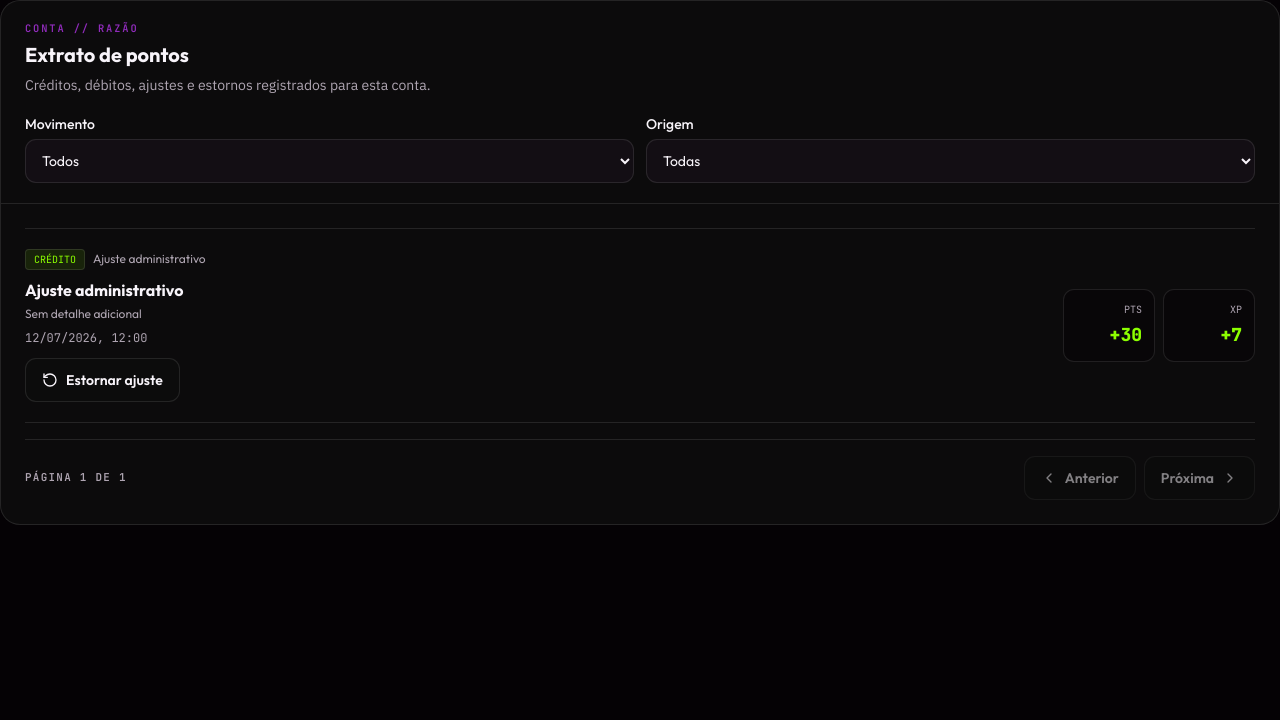
it: participant point-event reversal flow › handles reversal replay=true and invalidates ranking for XP
Click the button "Estornar ajuste" at (102, 380), box left=25, top=358, right=180, bottom=402
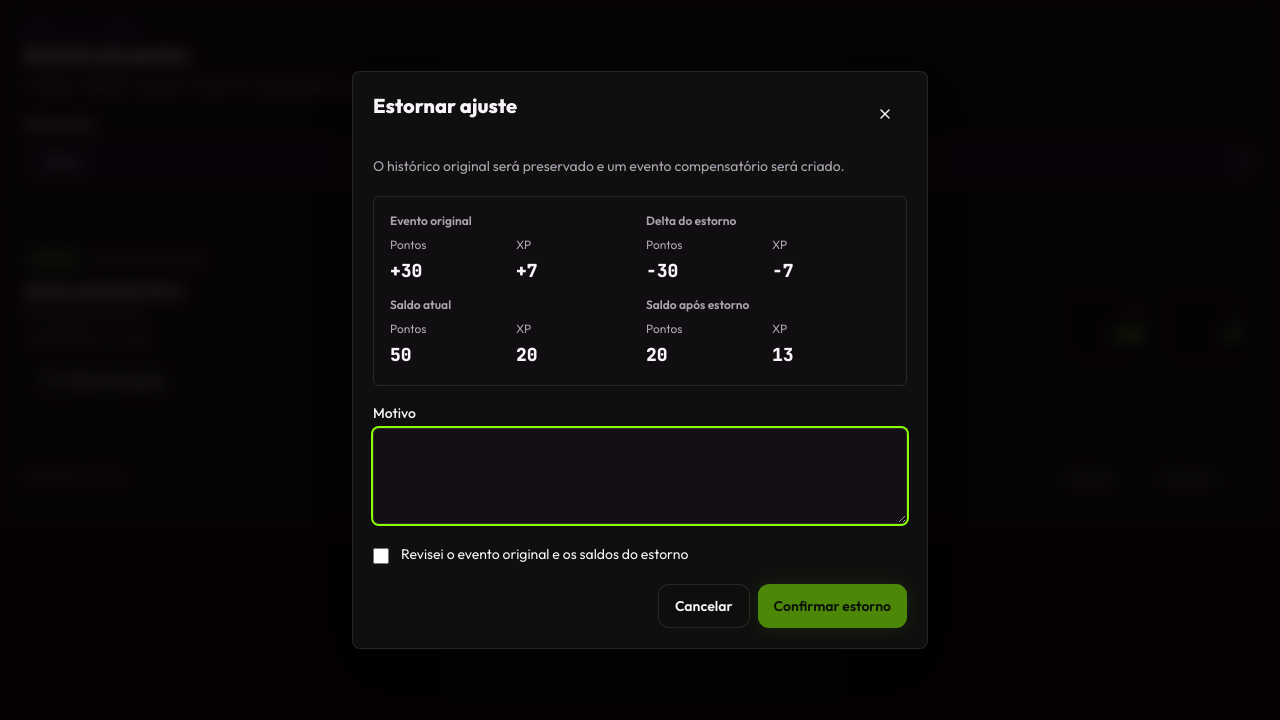
Expected: the text "Saldo após estorno" is shown, left=646, top=297, right=749, bottom=312
Type "Estorno operacional" into the text box labelled "Motivo" at (640, 476), box left=373, top=428, right=907, bottom=524
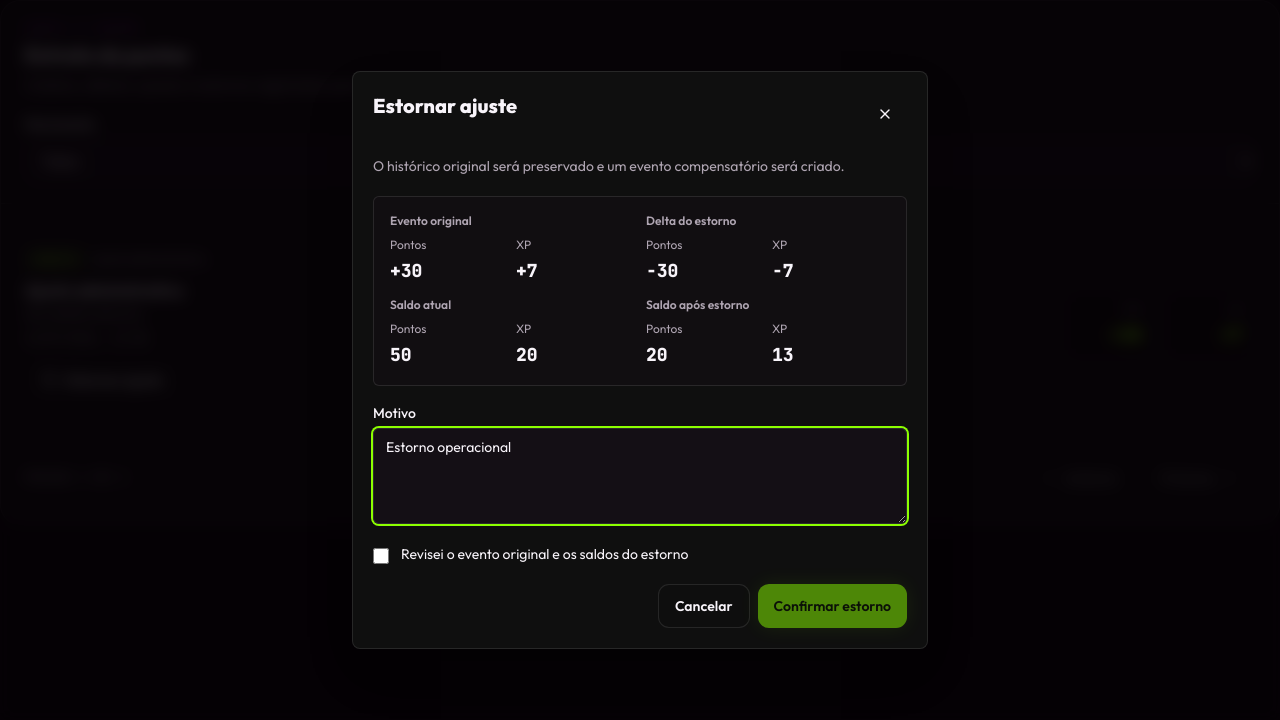
Click the checkbox labelled "Revisei o evento original e os saldos do estorno" at (381, 556), box left=373, top=548, right=389, bottom=564
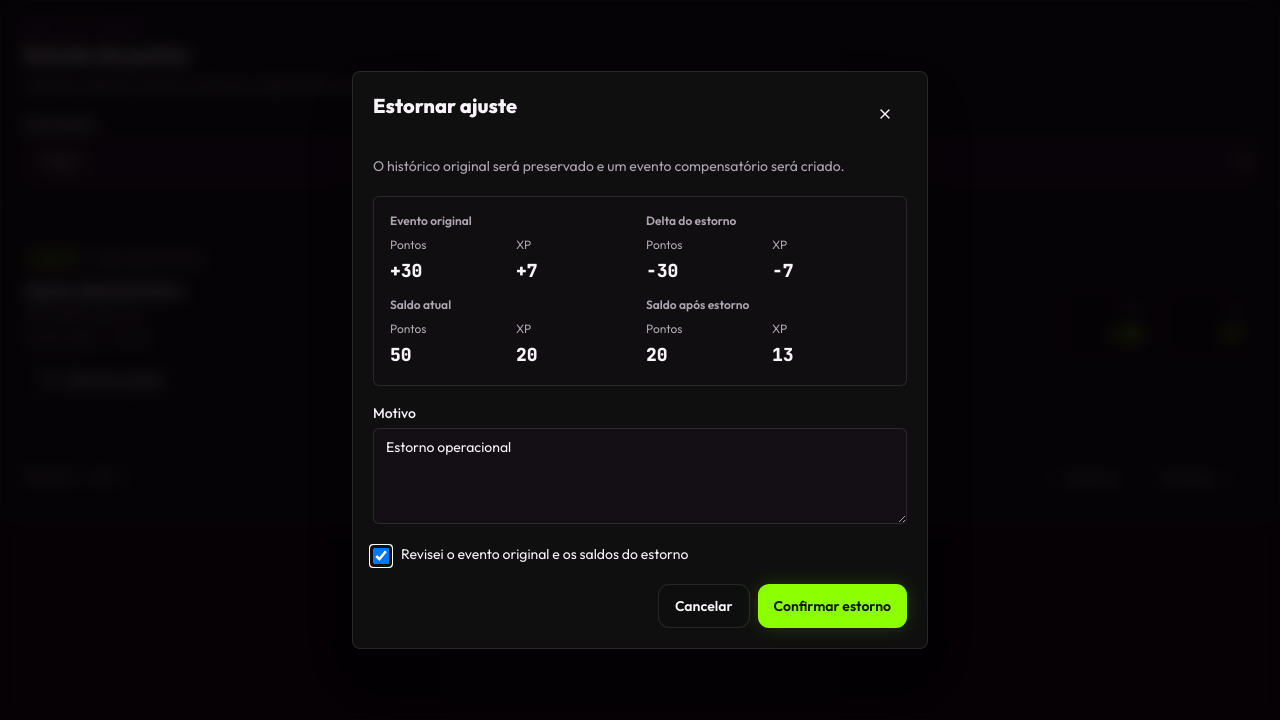
Click the button "Confirmar estorno" at (832, 606), box left=758, top=584, right=907, bottom=628
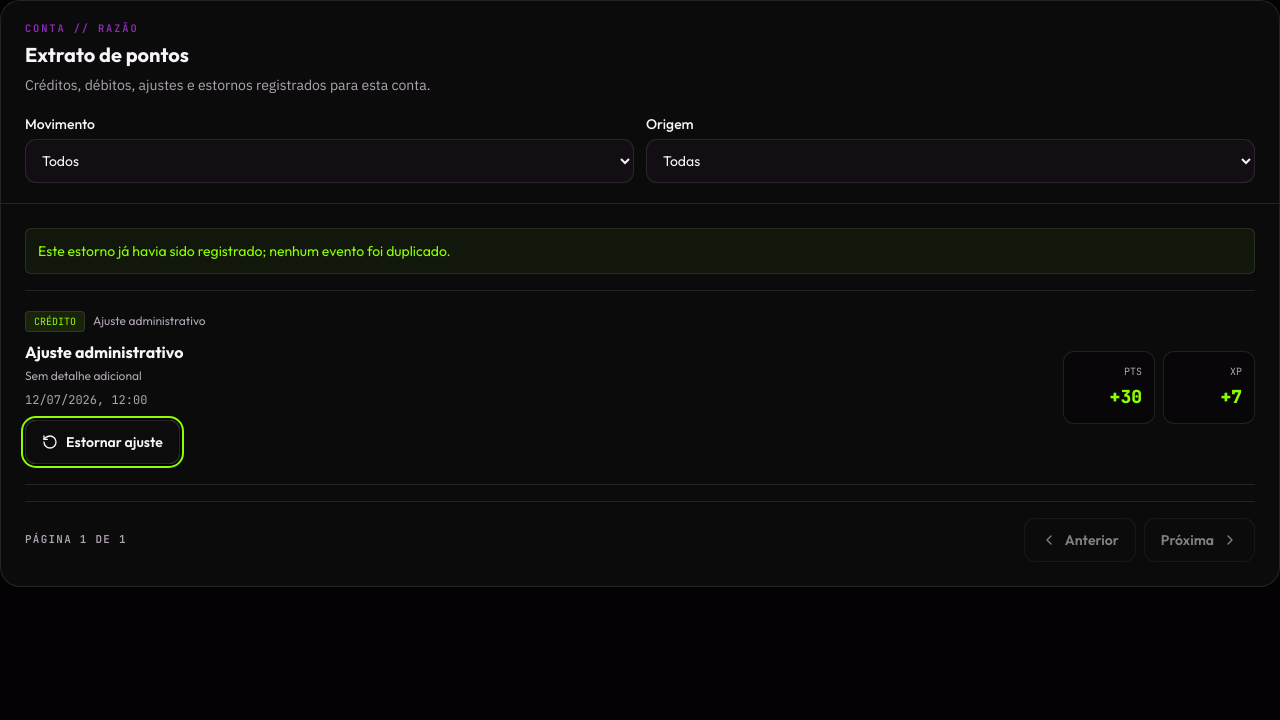
Expected: the message reads "Este estorno já havia sido registrado; nenhum evento foi duplicado.", left=38, top=242, right=451, bottom=260
